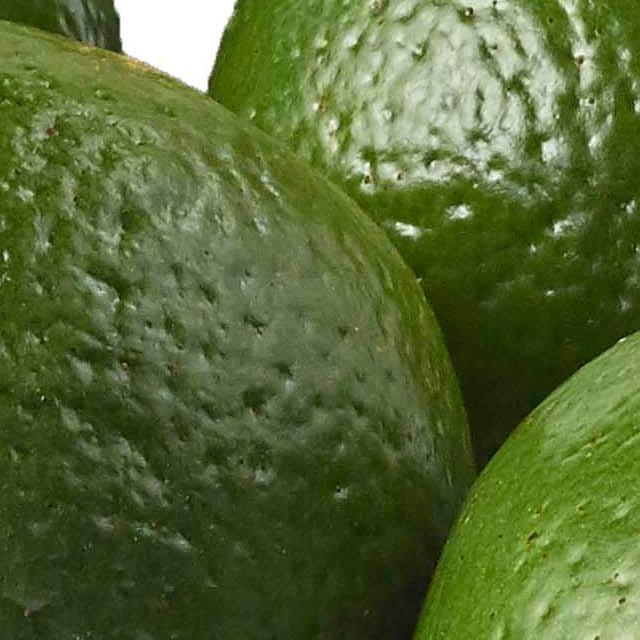lime: (0, 55, 479, 640), (217, 0, 640, 459)
